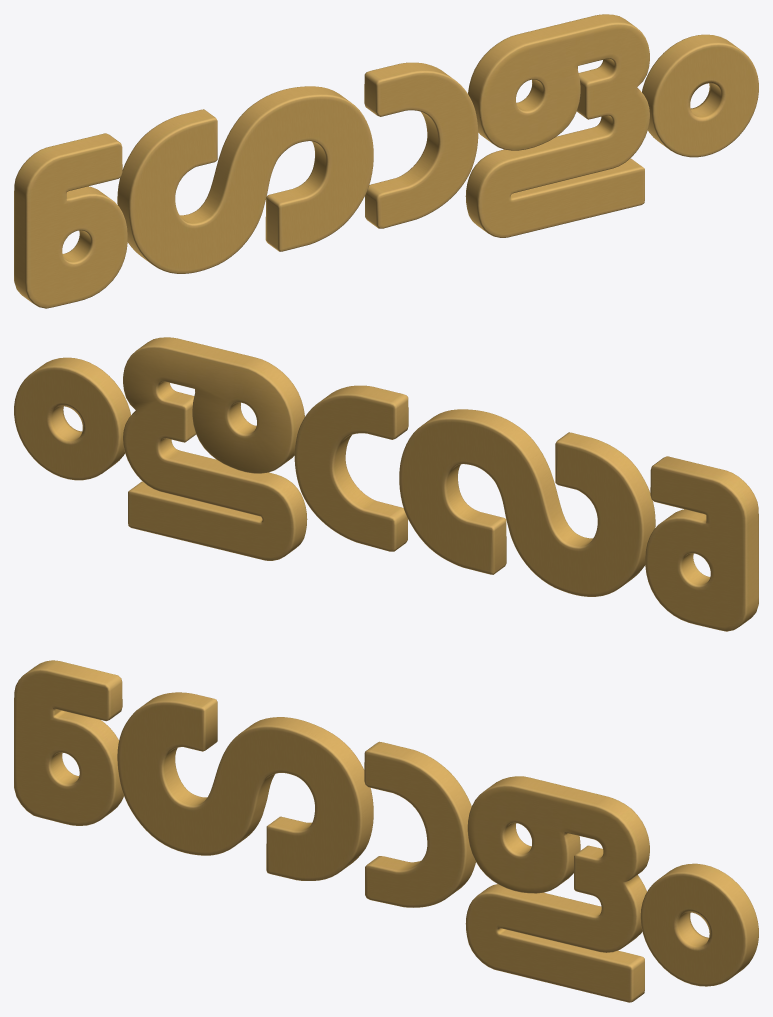
File: golam malayalam title.glb
3 views of the same model, one above another, from view 1: azimuth 30°, elevation 25°; view 2: azimuth 150°, elevation 25°; view 3: azimuth 330°, elevation 25° (orthographic).
Parts seen in each view (by area): view 1: GOLAM malyalam Zb; view 2: GOLAM malyalam Zb; view 3: GOLAM malyalam Zb.
Boxes of the visible parts, <box> form: GOLAM malyalam Zb: <box>14,14,758,308</box>; GOLAM malyalam Zb: <box>14,337,758,631</box>; GOLAM malyalam Zb: <box>14,660,758,1002</box>.
Size of the model in its own units: 1.1 by 0.2732 by 0.0347.
Materials: 1 (1 with a texture image).
